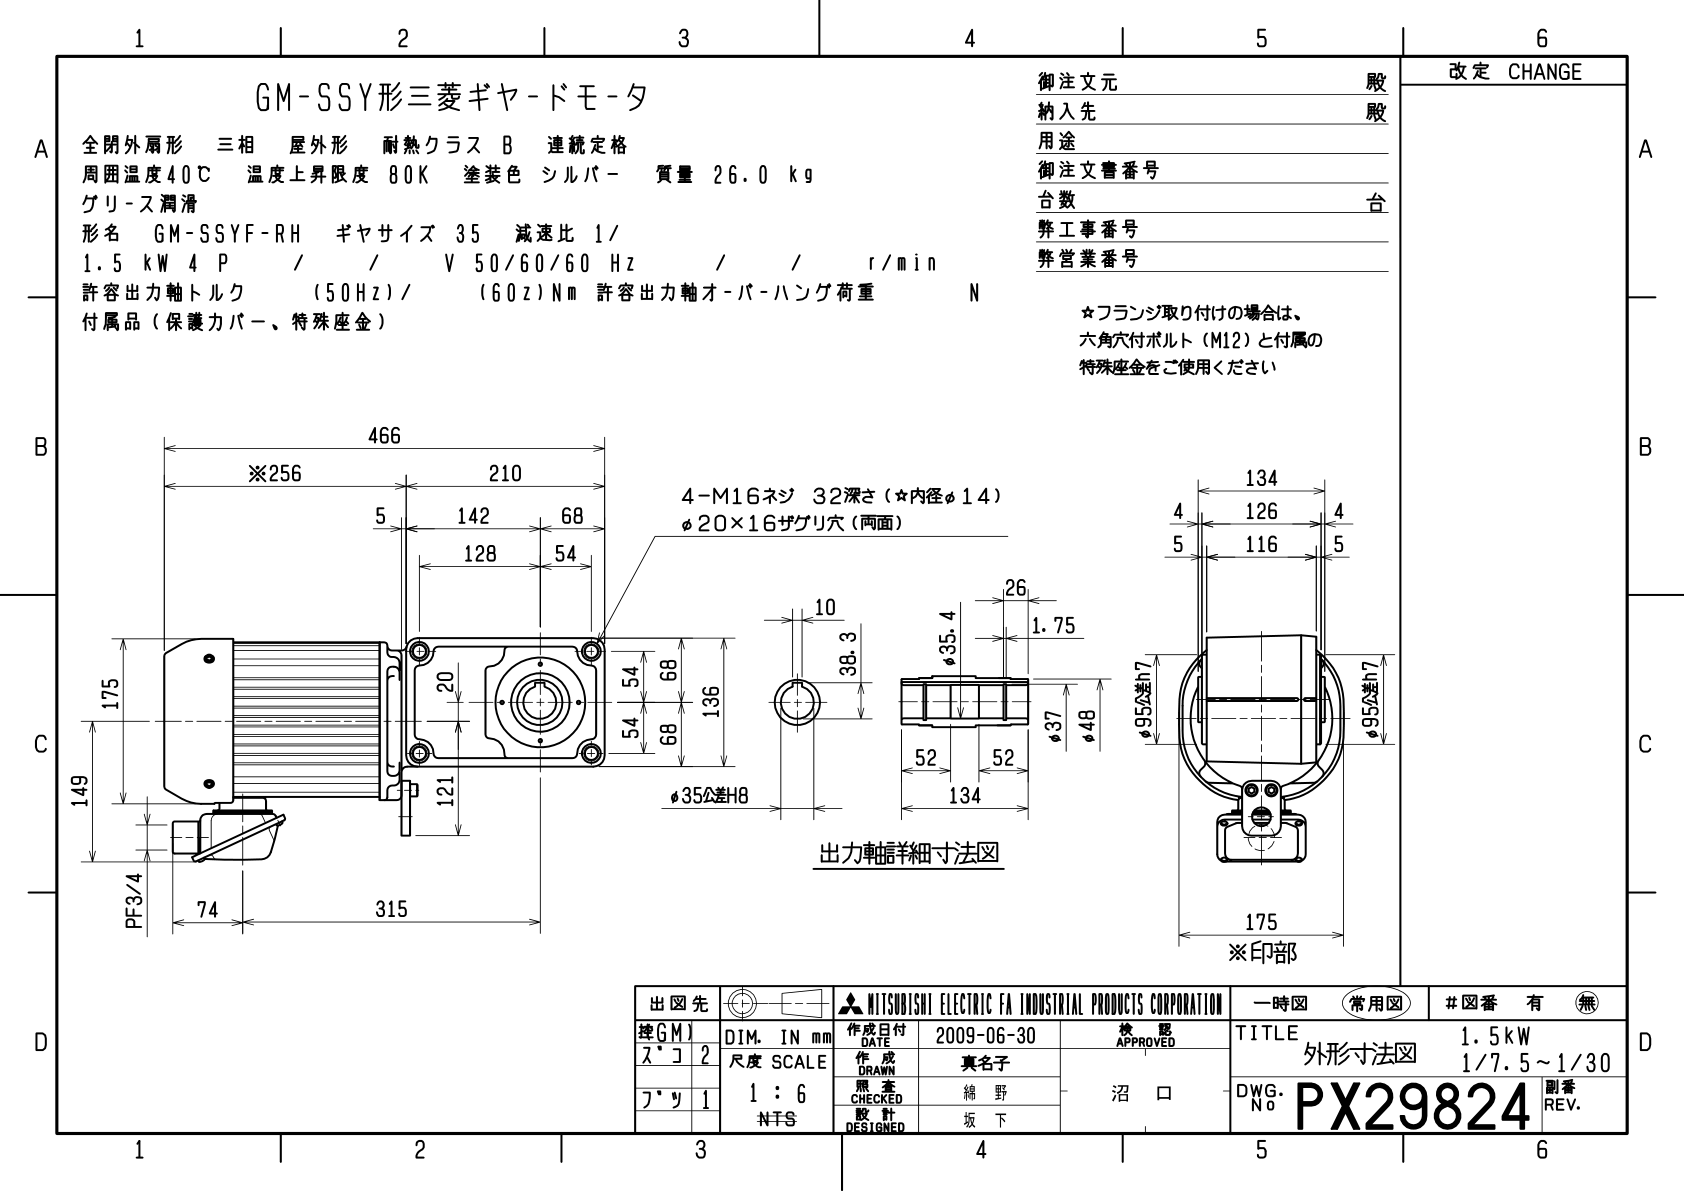GM_SSY_インバータ屋外_三相: (63, 396, 1401, 971)
